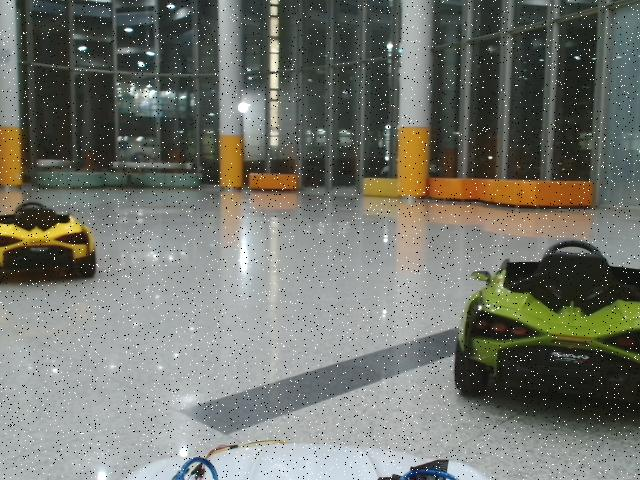car: (455, 241, 640, 413), (1, 202, 97, 285)
